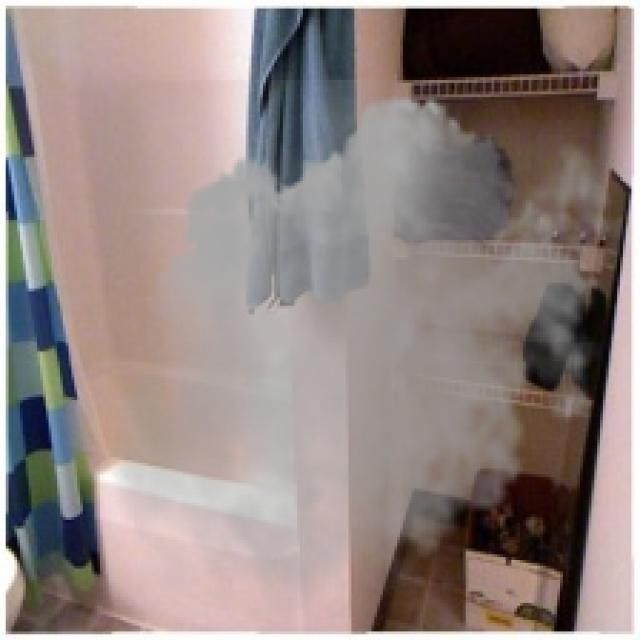smoke: (100, 80, 629, 634)
